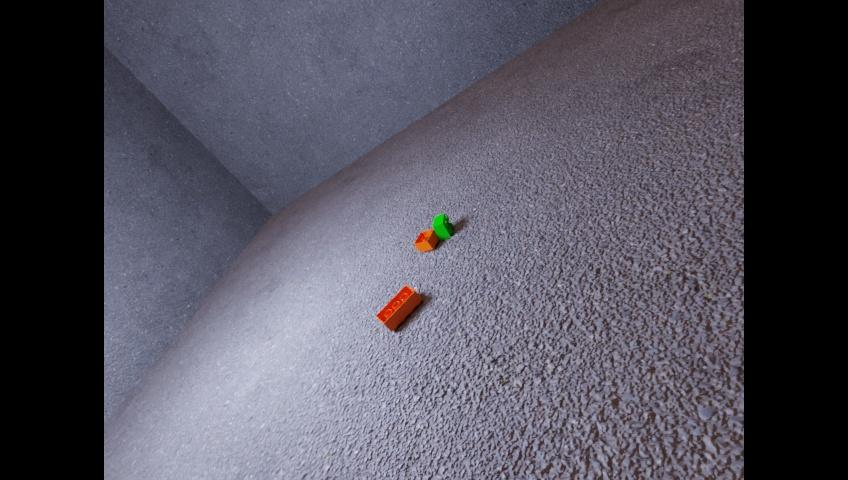2x2_green: (432, 213, 452, 240)
2x2_orange: (413, 228, 438, 251)
4x2_orange: (376, 284, 422, 331)
